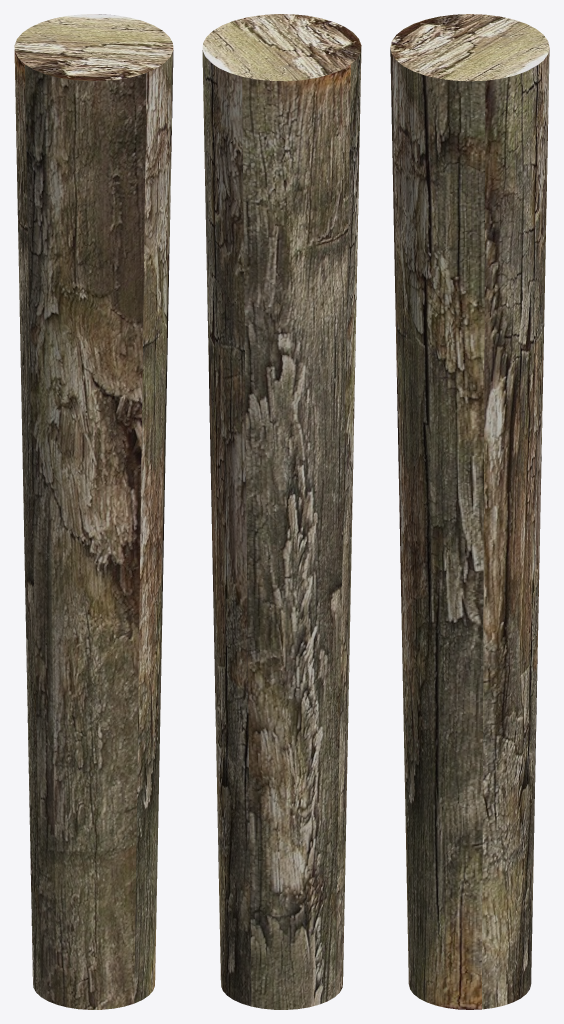
The model's file is post.gltf.
3 renders of one model, left to right at view 1: azimuth 30°, elevation 25°; view 2: azimuth 150°, elevation 25°; view 3: azimuth 270°, elevation 25°, orthographic.
Visible parts, largest first — view 1: Cylinder.002; view 2: Cylinder.002; view 3: Cylinder.002.
Part boxes in pixels (x1,y1,x2,y2): Cylinder.002: [14, 14, 173, 1009]; Cylinder.002: [202, 14, 361, 1009]; Cylinder.002: [390, 14, 549, 1009].
Size of the model in its own units: 0.3282 by 2.13 by 0.3282.
1 material, 1 textured.
